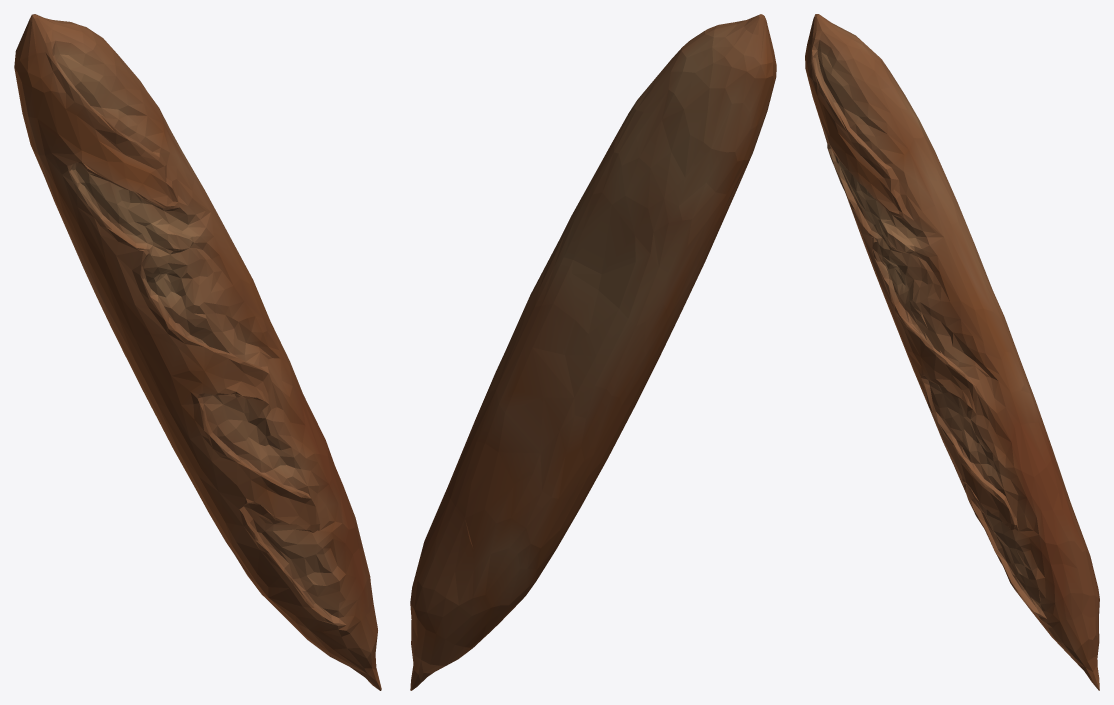
Rendered from baguette.glb.
3 views of the same model, side by side, from view 1: azimuth 30°, elevation 25°; view 2: azimuth 150°, elevation 25°; view 3: azimuth 330°, elevation 25° (orthographic). The views are drawn at different scales.
Parts seen in each view (by area): view 1: geometry_0; view 2: geometry_0; view 3: geometry_0.
Boxes of the visible parts, x1,y1,x2,y2 form: geometry_0: [14, 14, 381, 690]; geometry_0: [410, 14, 776, 690]; geometry_0: [805, 14, 1099, 690].
Size of the model in its own units: 0.8981 by 1.8 by 0.214.
